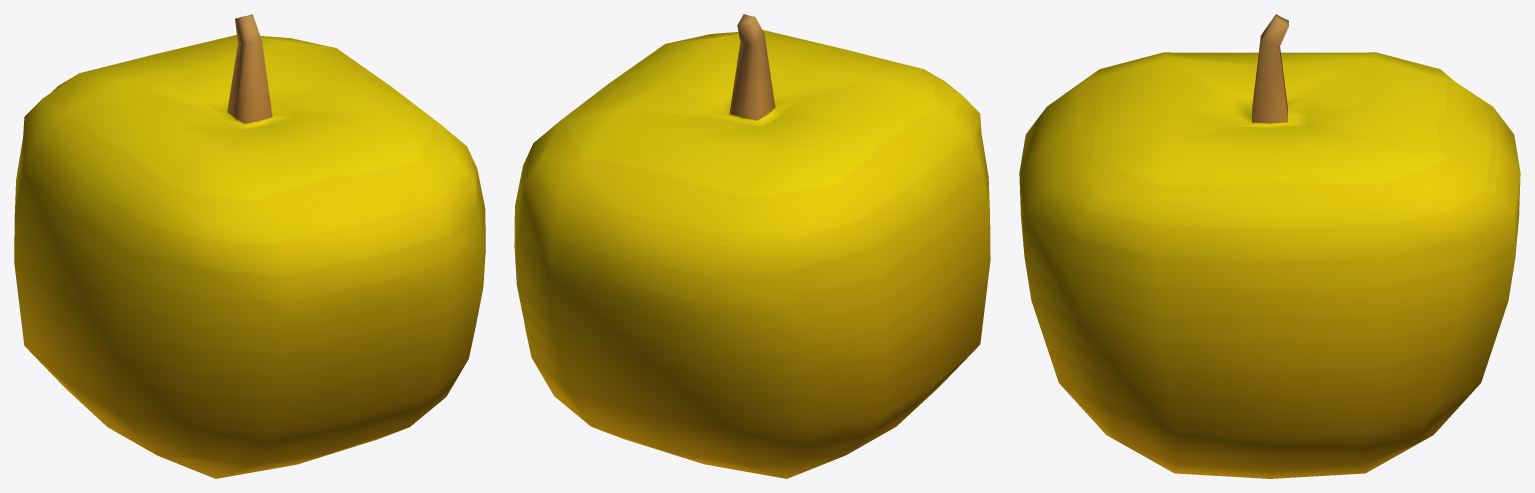
The model's file is apple_dourada.fbx.
3 renders of one model, left to right at view 1: azimuth 30°, elevation 25°; view 2: azimuth 150°, elevation 25°; view 3: azimuth 270°, elevation 25°, orthographic. The views are drawn at different scales.
Parts seen in each view (by area): view 1: Cube; view 2: Cube; view 3: Cube.
Part boxes in pixels (bbox=[...]): Cube: bbox=[14, 14, 485, 478]; Cube: bbox=[514, 14, 990, 478]; Cube: bbox=[1019, 14, 1520, 478].
Size of the model in its own units: 167 by 178 by 192.
